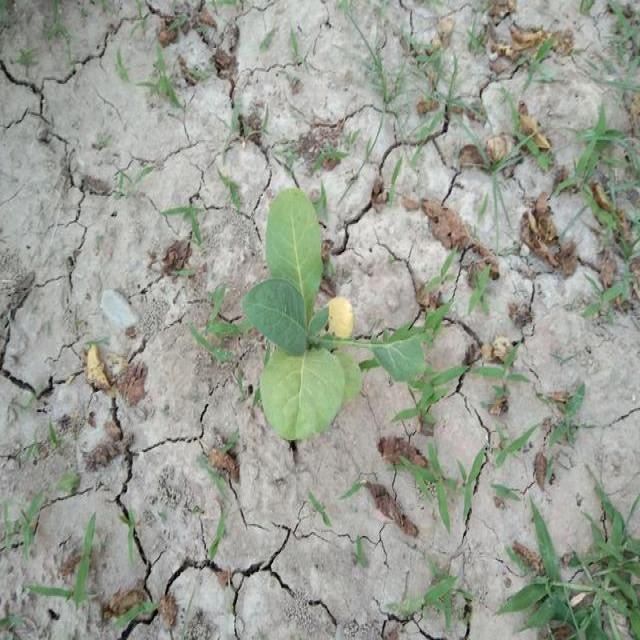crop: (242, 194, 424, 436)
